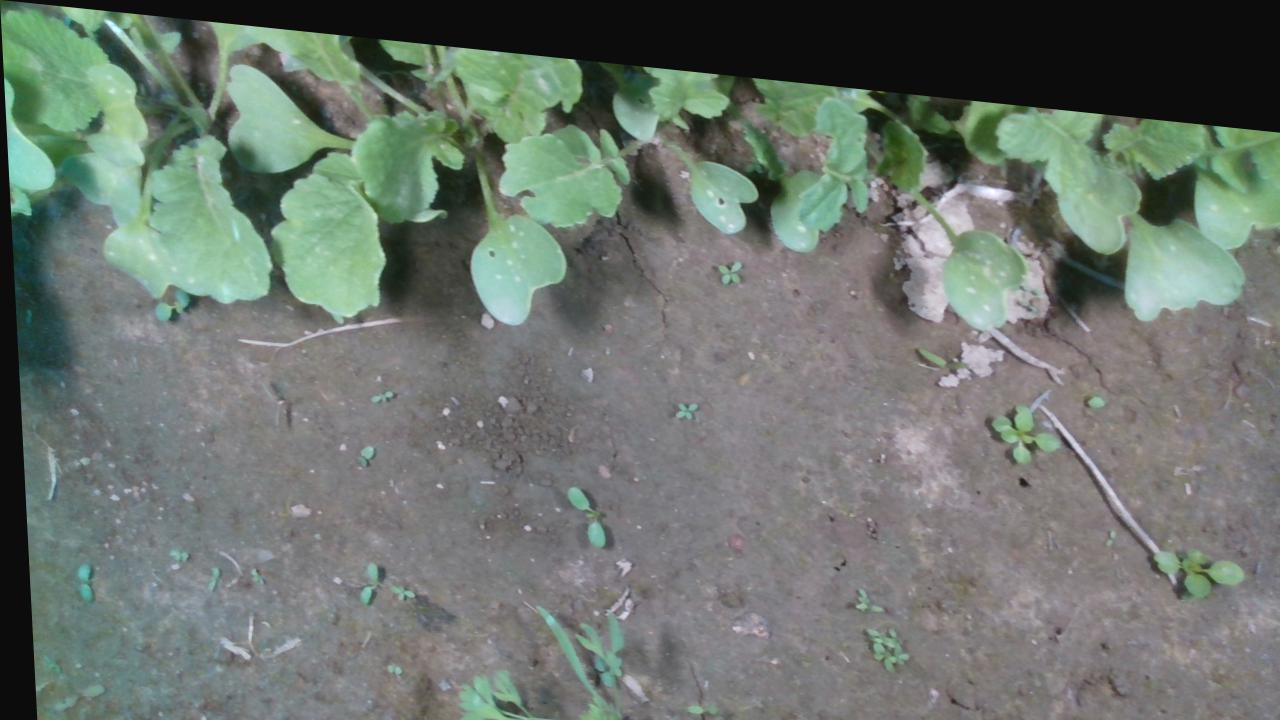weed: (558, 472, 601, 535), (351, 549, 374, 598), (713, 241, 744, 271), (68, 559, 89, 603), (348, 434, 372, 463), (667, 384, 695, 408), (381, 574, 411, 594), (196, 560, 214, 590), (676, 686, 709, 702), (365, 380, 392, 397), (1065, 716, 1097, 719)
